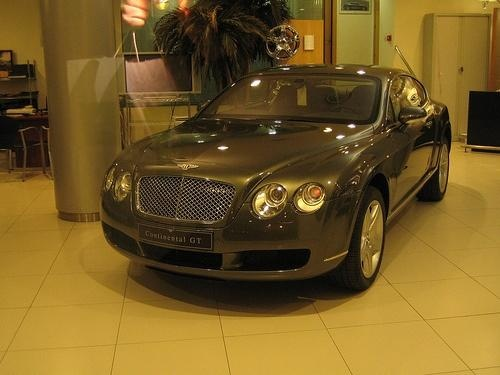car: (103, 64, 453, 293)
chair: (1, 115, 48, 183)
pottedplant: (156, 1, 284, 107)
